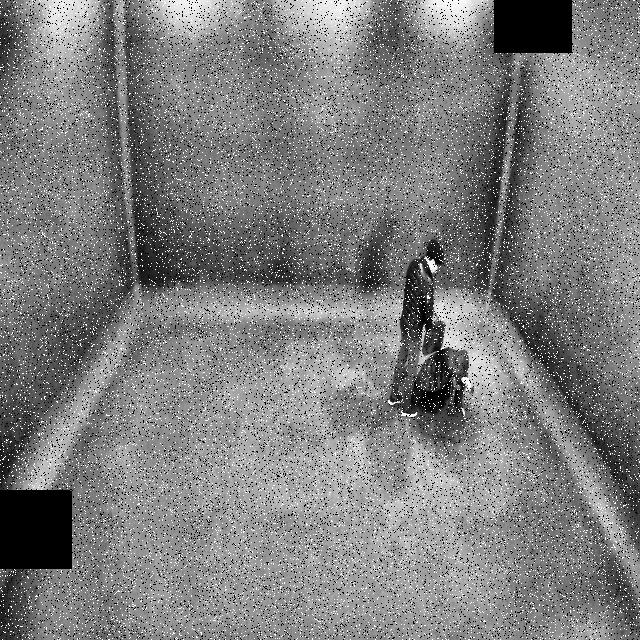assult: (388, 230, 475, 425)
